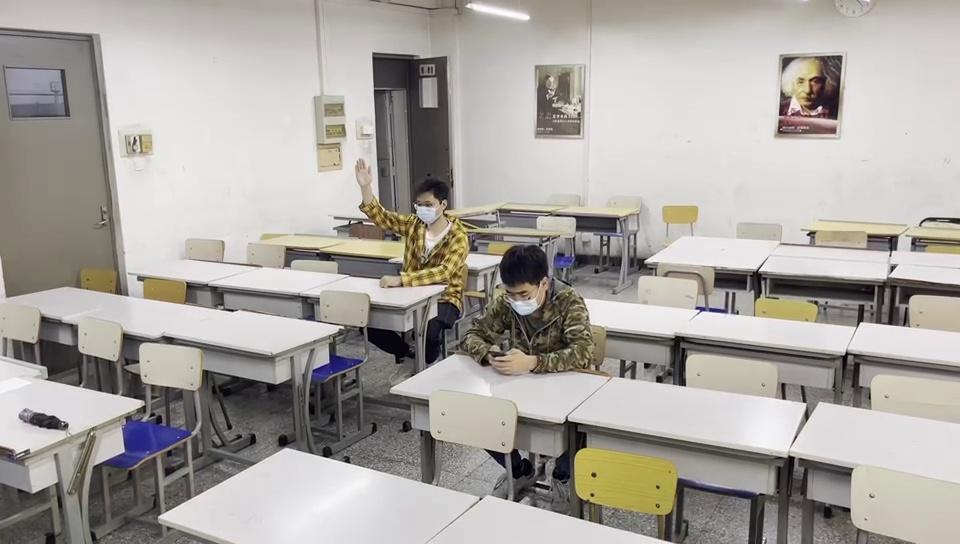phone: (469, 243, 594, 375)
study: (355, 156, 467, 286)
